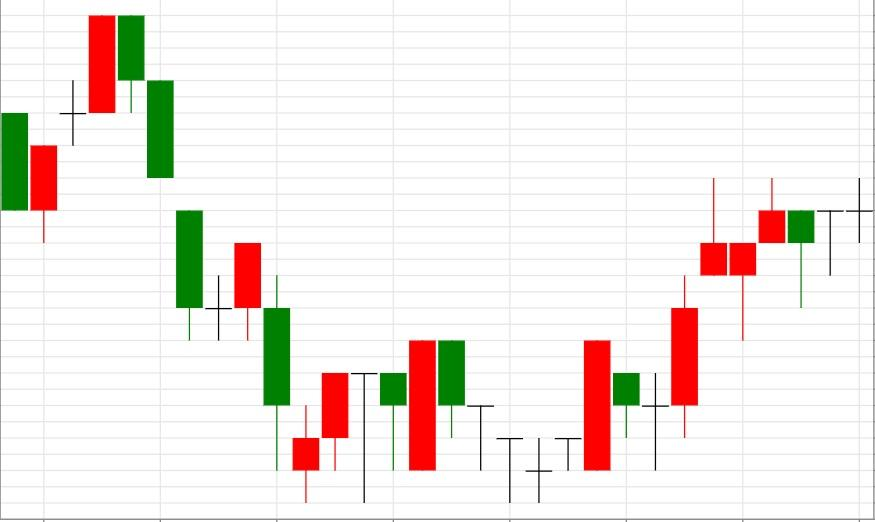bearish_engulfing_fall: (292, 340, 437, 504)
shooting_star_fall: (525, 178, 729, 502)
three_black_crows_fall: (0, 15, 204, 341)
